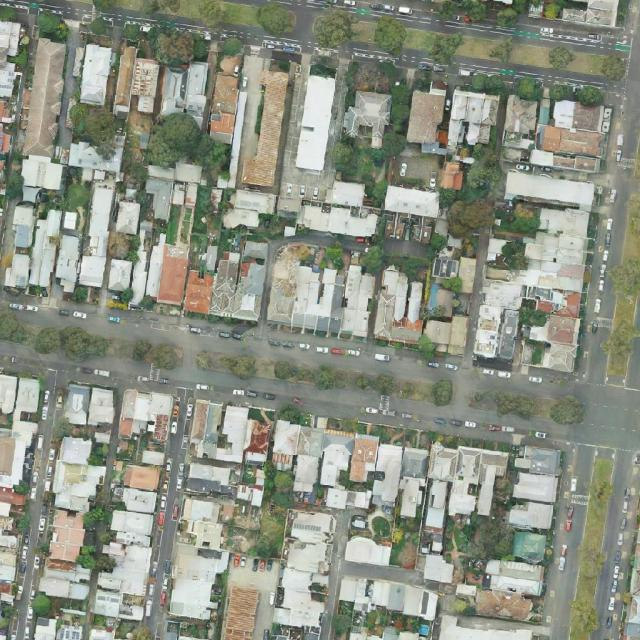building: (267, 243, 379, 339), (264, 418, 381, 504), (270, 507, 340, 640), (499, 92, 609, 176), (422, 442, 509, 521), (241, 68, 295, 189), (186, 398, 276, 468), (522, 205, 589, 294), (207, 234, 273, 323), (22, 37, 70, 158), (182, 459, 266, 528), (297, 175, 384, 240), (26, 208, 89, 294), (228, 44, 272, 167), (221, 553, 282, 640), (38, 509, 96, 600), (164, 543, 229, 624), (337, 571, 440, 622), (108, 459, 163, 548), (93, 541, 153, 622), (77, 178, 120, 289), (373, 265, 431, 346), (508, 445, 562, 532), (50, 436, 109, 514), (370, 443, 430, 519), (0, 374, 40, 487), (472, 278, 525, 363), (483, 529, 548, 596), (296, 75, 336, 171), (206, 50, 246, 144), (504, 170, 596, 208), (455, 586, 544, 622), (117, 388, 175, 443), (526, 313, 580, 372), (448, 88, 499, 147), (128, 230, 167, 306), (173, 57, 219, 120), (405, 81, 448, 147), (179, 498, 225, 551), (351, 91, 392, 149), (156, 242, 192, 307), (421, 310, 470, 357), (223, 189, 275, 231), (63, 384, 115, 426), (64, 384, 114, 427), (80, 44, 113, 106), (383, 184, 441, 219), (128, 229, 154, 306), (0, 501, 19, 603), (112, 45, 138, 119), (160, 162, 204, 205), (527, 285, 582, 319), (128, 57, 161, 113), (142, 165, 175, 221), (67, 140, 124, 172), (34, 608, 85, 640), (0, 21, 21, 97), (344, 534, 393, 566), (20, 155, 64, 189), (183, 270, 215, 315), (160, 66, 188, 117), (484, 265, 543, 288), (425, 480, 449, 531), (535, 290, 580, 316), (426, 283, 458, 319), (325, 487, 371, 512), (12, 204, 36, 248), (422, 553, 455, 583), (4, 253, 31, 289), (107, 258, 133, 293), (438, 160, 466, 192), (115, 201, 140, 234), (0, 486, 26, 517), (0, 100, 13, 155), (432, 257, 459, 280), (342, 106, 361, 137), (441, 291, 460, 320), (459, 258, 475, 292), (141, 449, 165, 467), (429, 284, 445, 310), (89, 625, 115, 640), (62, 211, 78, 231)
greenland: (193, 347, 455, 407), (0, 307, 185, 384), (439, 143, 523, 249), (462, 507, 550, 573), (146, 109, 232, 172), (368, 98, 421, 173), (77, 505, 121, 574), (62, 101, 120, 151), (145, 23, 208, 67), (307, 2, 362, 52), (253, 507, 290, 561), (30, 7, 75, 47), (372, 16, 409, 58), (547, 81, 605, 107), (492, 390, 540, 421), (260, 467, 295, 509), (596, 49, 633, 86), (507, 201, 544, 238), (546, 394, 586, 426), (440, 0, 489, 24), (427, 34, 465, 64), (543, 41, 576, 74), (488, 33, 517, 65), (470, 71, 507, 95), (516, 306, 549, 332), (413, 332, 441, 362), (334, 138, 358, 172), (7, 45, 36, 73), (28, 592, 56, 620), (501, 240, 525, 270), (363, 244, 385, 275), (65, 184, 90, 211), (220, 35, 245, 60), (516, 76, 541, 101), (6, 171, 25, 200), (495, 7, 520, 29), (277, 403, 302, 425), (391, 84, 411, 102), (90, 16, 108, 35), (123, 24, 141, 39), (0, 6, 16, 21)
metalled_road: (11, 368, 63, 614), (16, 299, 189, 345), (295, 227, 369, 254), (384, 237, 429, 257), (16, 619, 31, 640)
